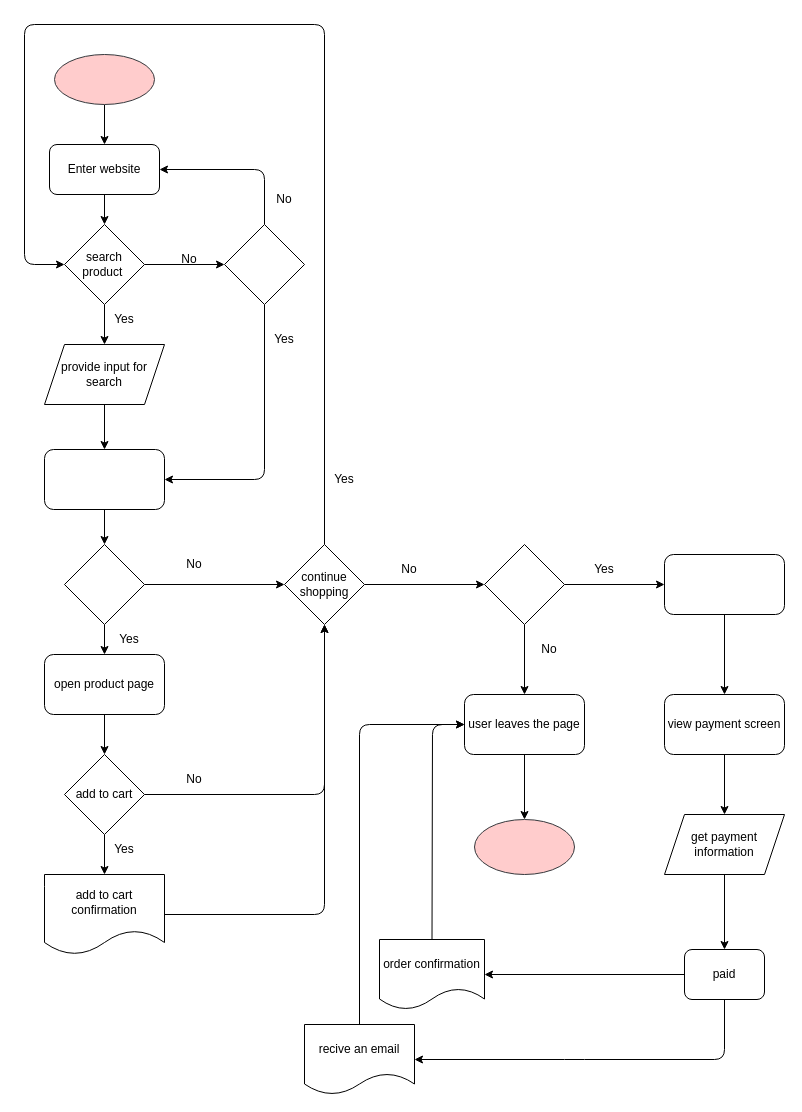
Image size: 802x1112. Some labels were removed from this diagram. Each missing label, with the box of its shape:
check out: (484, 544, 564, 624)
End: (474, 818, 574, 874)
explore product: (224, 224, 304, 304)
Start: (54, 54, 154, 104)
user begin look over data: (44, 448, 164, 510)
view cart screen: (664, 554, 784, 614)
view specifc product: (64, 544, 144, 624)
